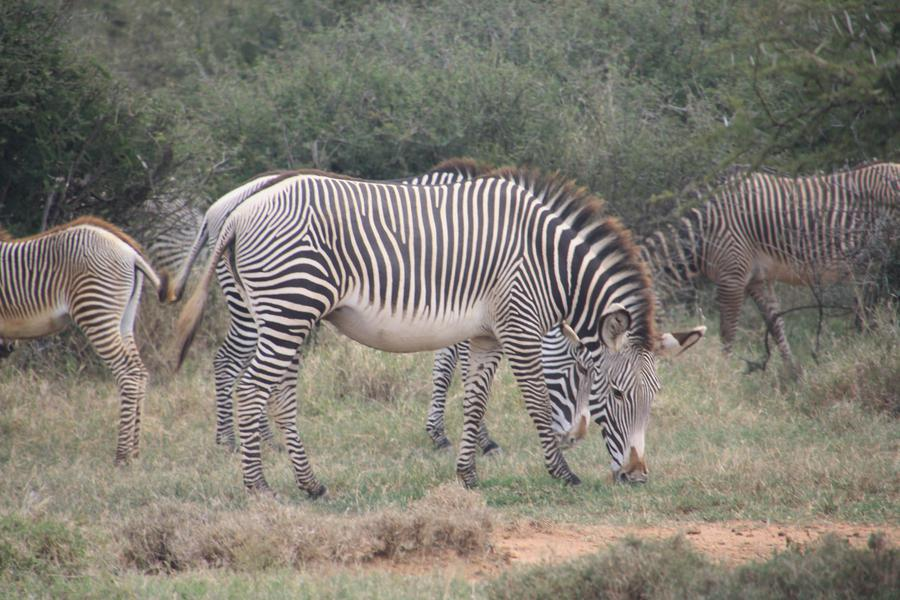zebra_grevys: (227, 181, 554, 343)
